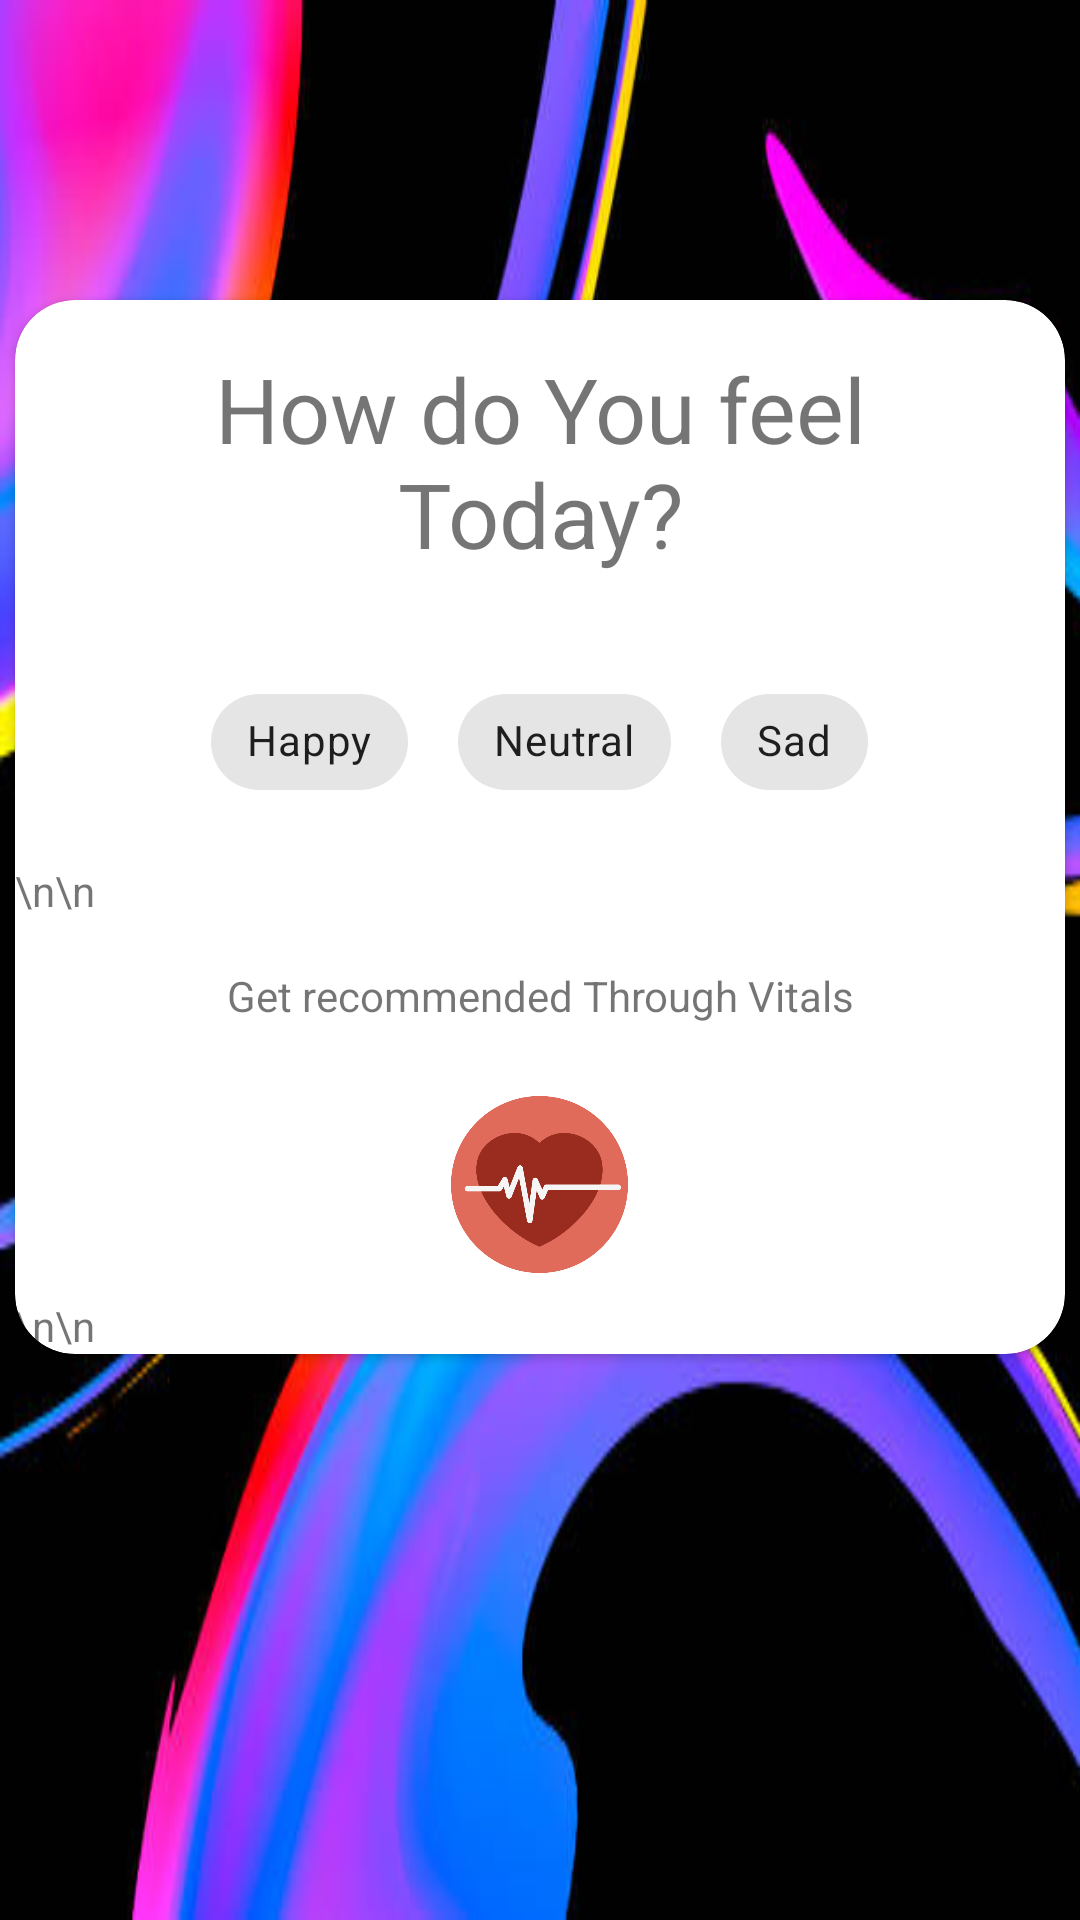

Icon click points for this 1080x1920 phone screenshot, format (x=x, y=y):
heart: (x=539, y=1184)
